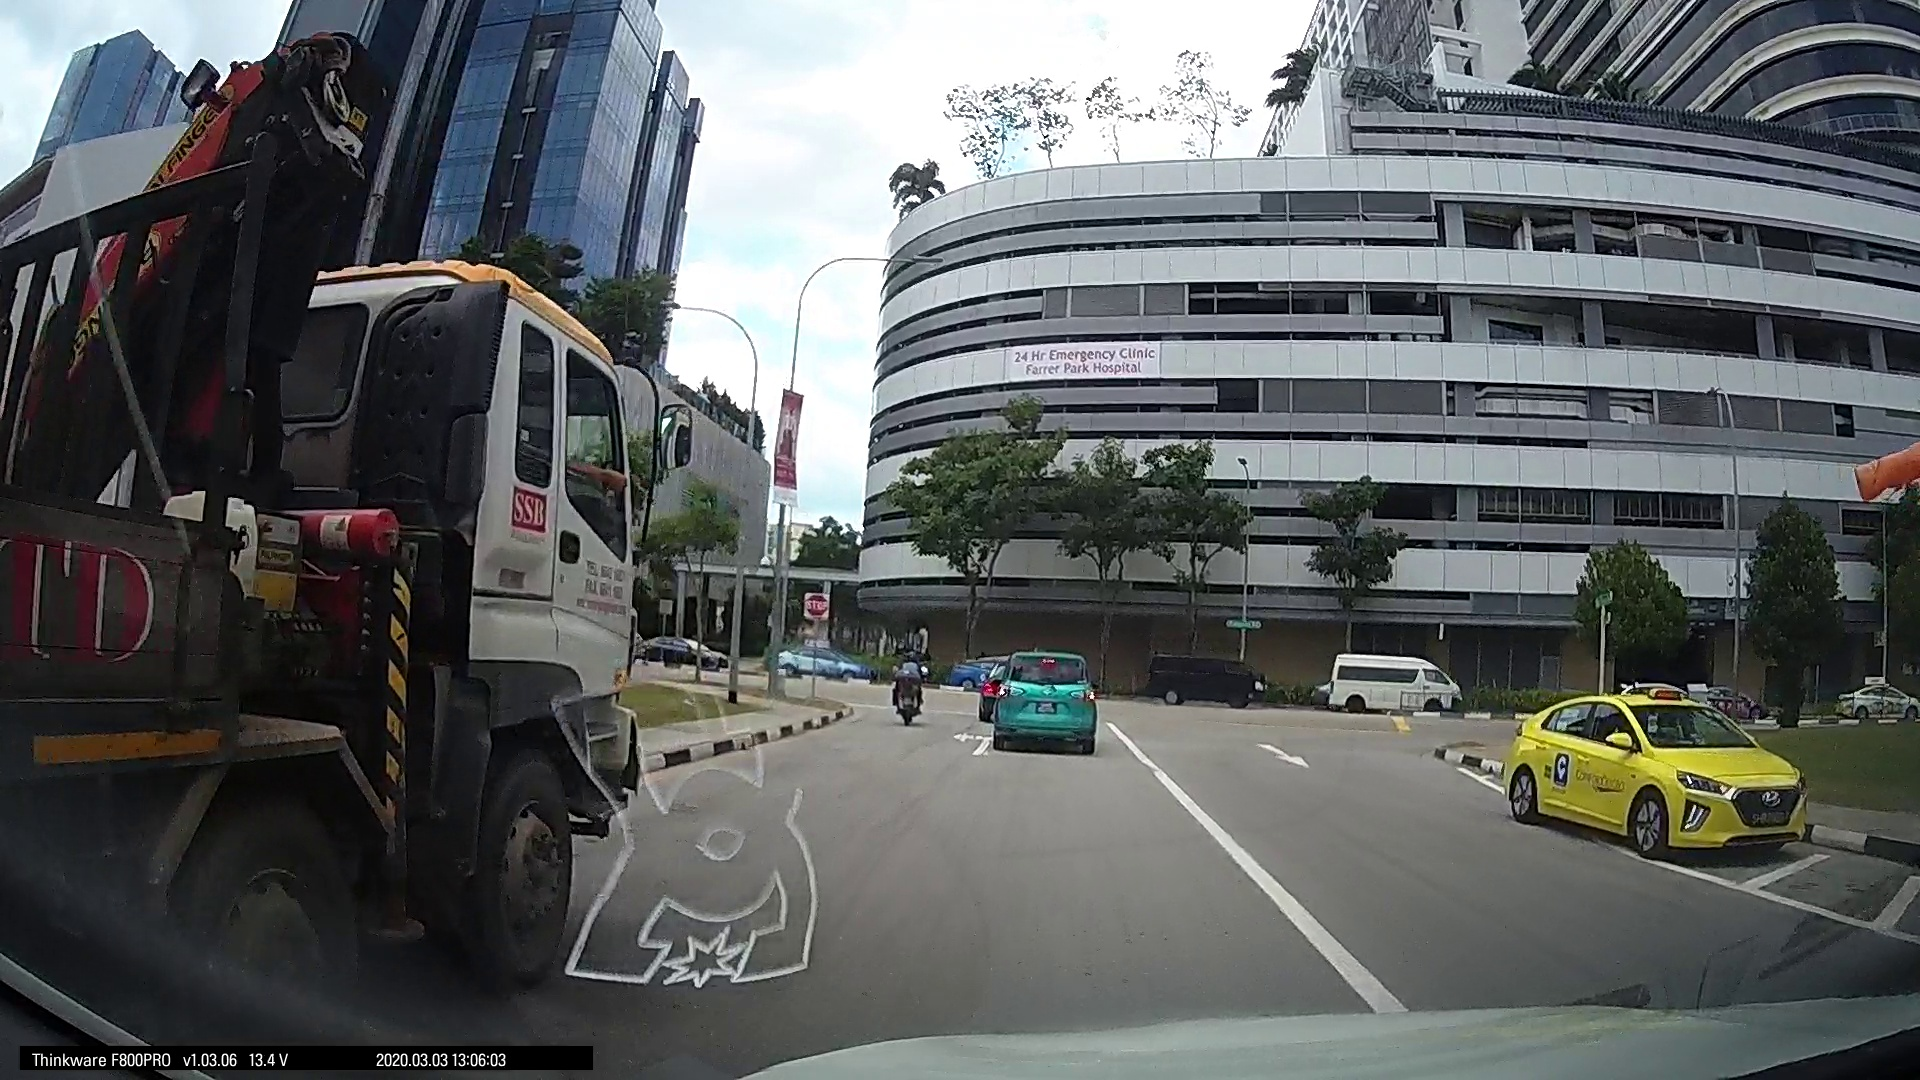Heavy Vehicle: (20, 153, 665, 1011)
Light Vehicle: (1497, 683, 1815, 866), (981, 647, 1096, 752), (1312, 647, 1470, 716), (1143, 645, 1261, 704), (778, 640, 866, 687)
Motorcycle: (884, 641, 928, 723)
